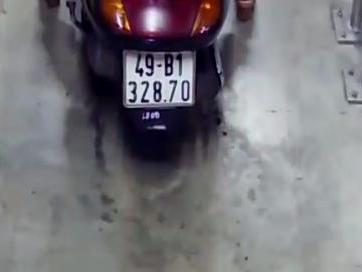num_plate: (120, 45, 197, 108)
